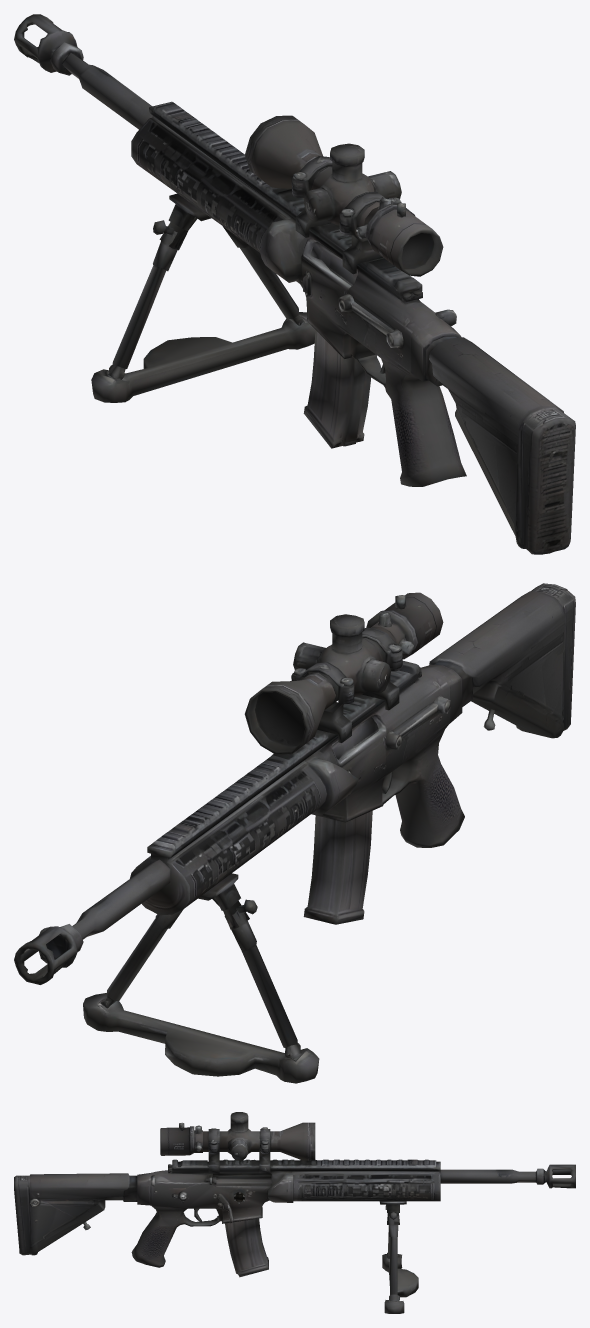
Rendered from awm.glb.
3 views of the same model, one above another, from view 1: azimuth 30°, elevation 25°; view 2: azimuth 150°, elevation 25°; view 3: azimuth 270°, elevation 25° (orthographic). The views are drawn at different scales.
Parts seen in each view (by area): view 1: tripo_node_c398c432-711d-4e26-89b3-a99238e5fade; view 2: tripo_node_c398c432-711d-4e26-89b3-a99238e5fade; view 3: tripo_node_c398c432-711d-4e26-89b3-a99238e5fade.
Part boxes in pixels (bbox=[...]): tripo_node_c398c432-711d-4e26-89b3-a99238e5fade: bbox=[14, 14, 575, 554]; tripo_node_c398c432-711d-4e26-89b3-a99238e5fade: bbox=[14, 583, 575, 1083]; tripo_node_c398c432-711d-4e26-89b3-a99238e5fade: bbox=[14, 1112, 575, 1313].
Size of the model in its own units: 0.7288 by 1 by 2.89.
1 material, 1 textured.
